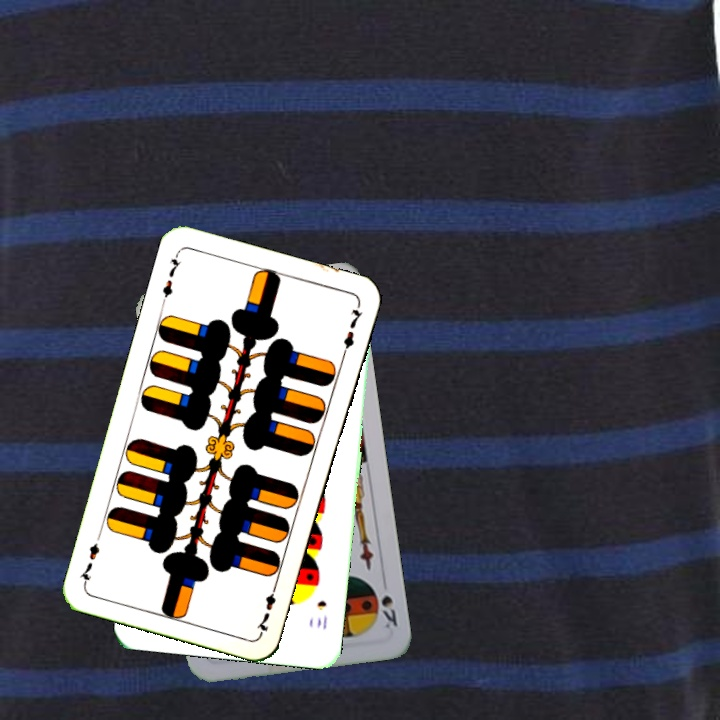E7: (253, 578, 281, 636), (157, 249, 183, 307)
S10: (313, 596, 330, 632)
SK: (377, 591, 400, 631)
